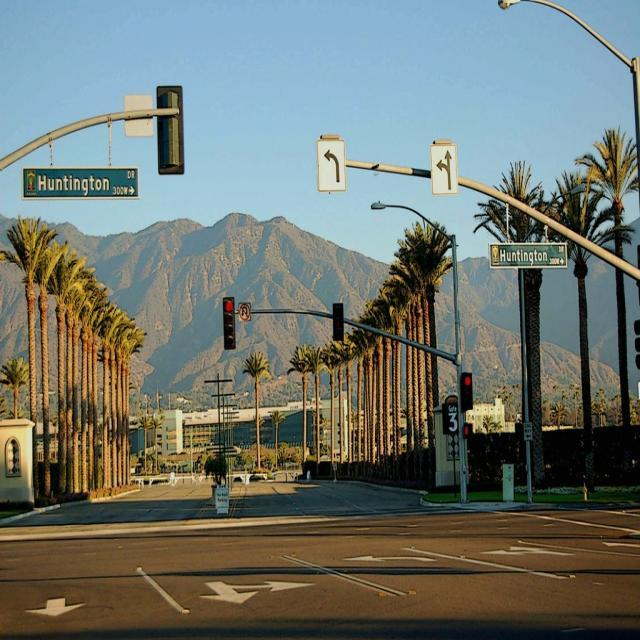traffic light: (222, 298, 237, 351), (461, 372, 473, 411), (333, 303, 344, 341)
